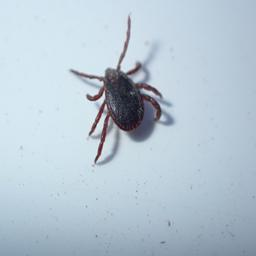Rhipicephalus sanguineus: (68, 12, 162, 166)
